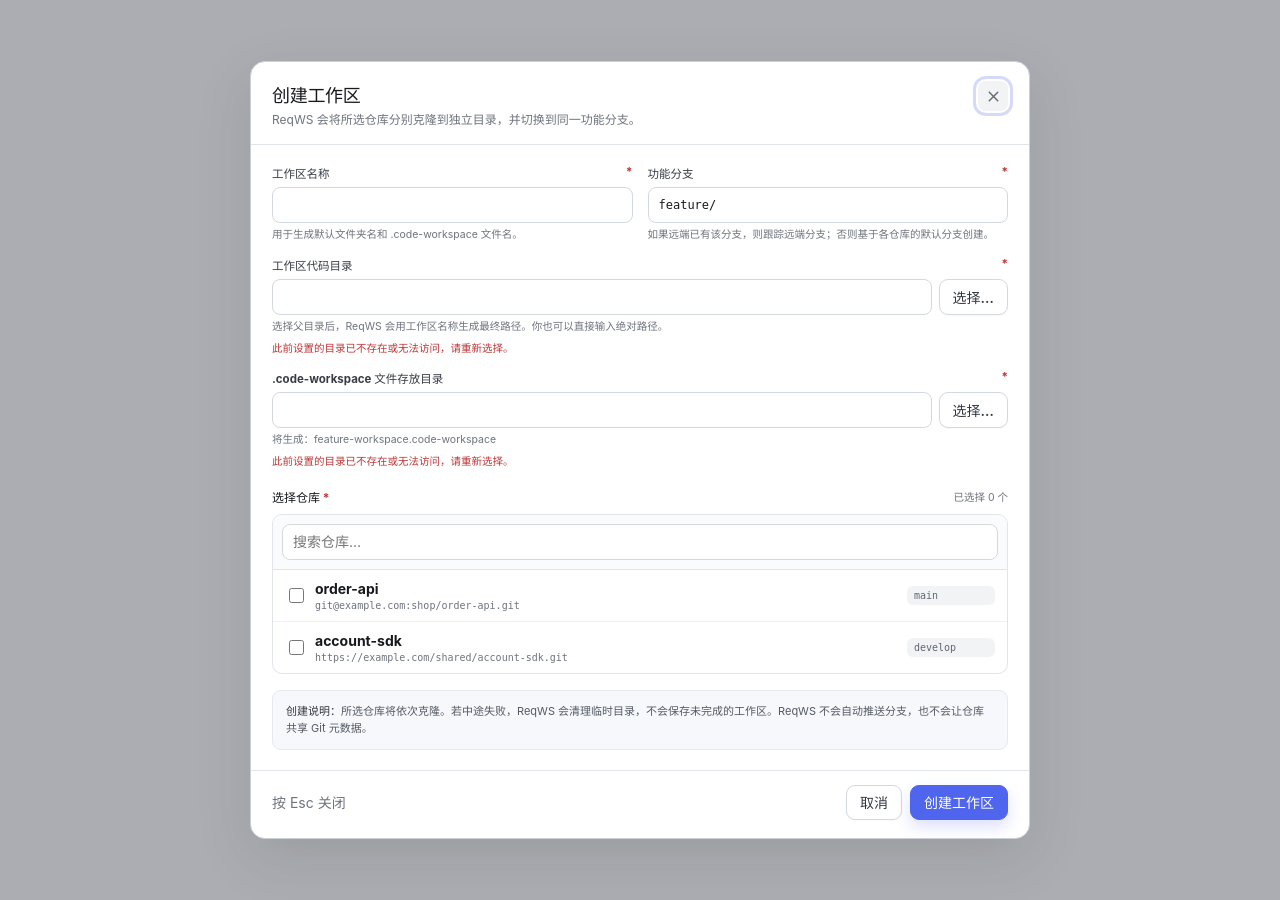
Scenario: Create Workspace form › warns about stale defaults and clears each warning after a replacement is selected
The image size is (1280, 900).
Click the 1st button "选择…": coordinates (973, 297) [939, 279, 1008, 315]
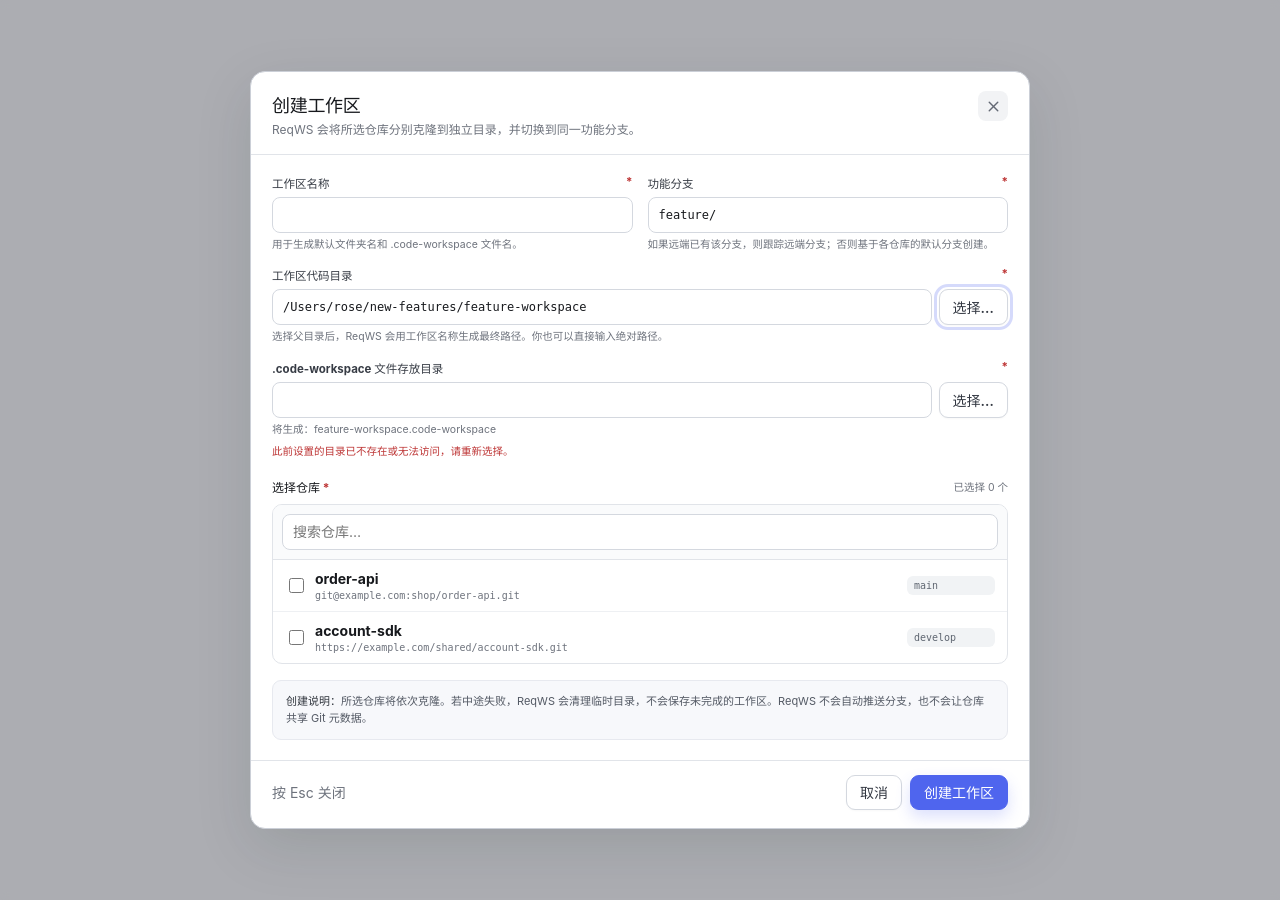
Expected: the number of messages is 1, [272, 445, 514, 458]
Click the 2nd button "选择…": coordinates (973, 400) [939, 382, 1008, 418]
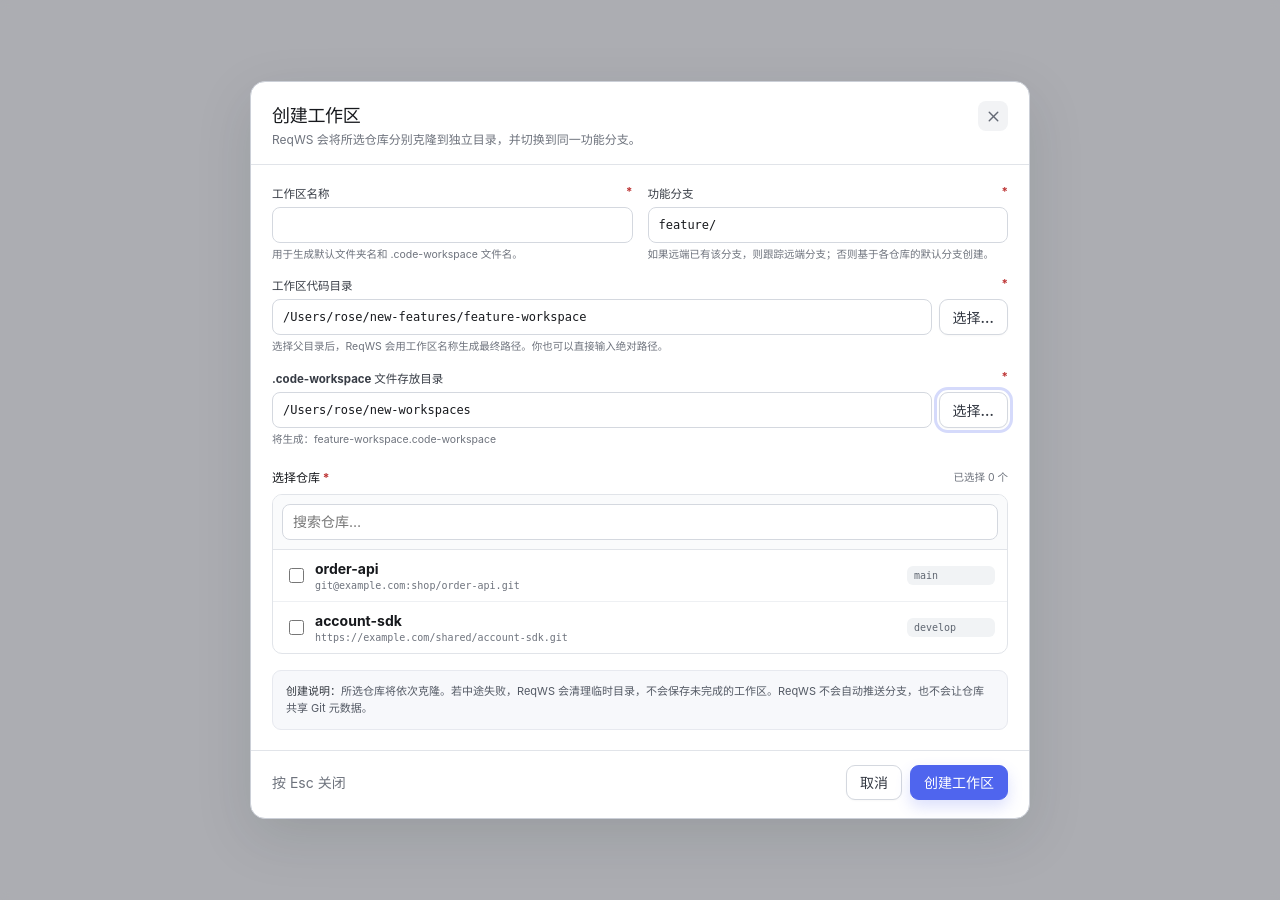
Expected: the message "此前设置的目录已不存在或无法访问，请重新选择。" is gone
